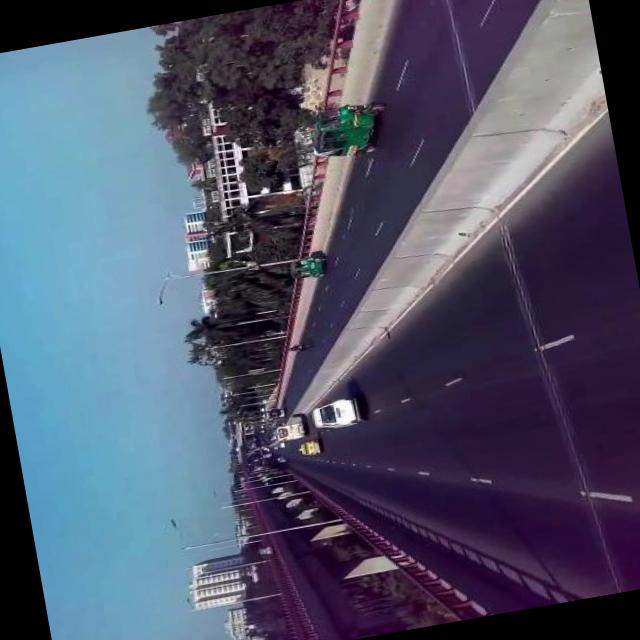bus: (270, 419, 310, 444)
car: (294, 436, 326, 458)
motorcycle: (298, 96, 394, 167), (286, 252, 332, 284), (283, 340, 316, 354)
truck: (307, 393, 366, 434)
